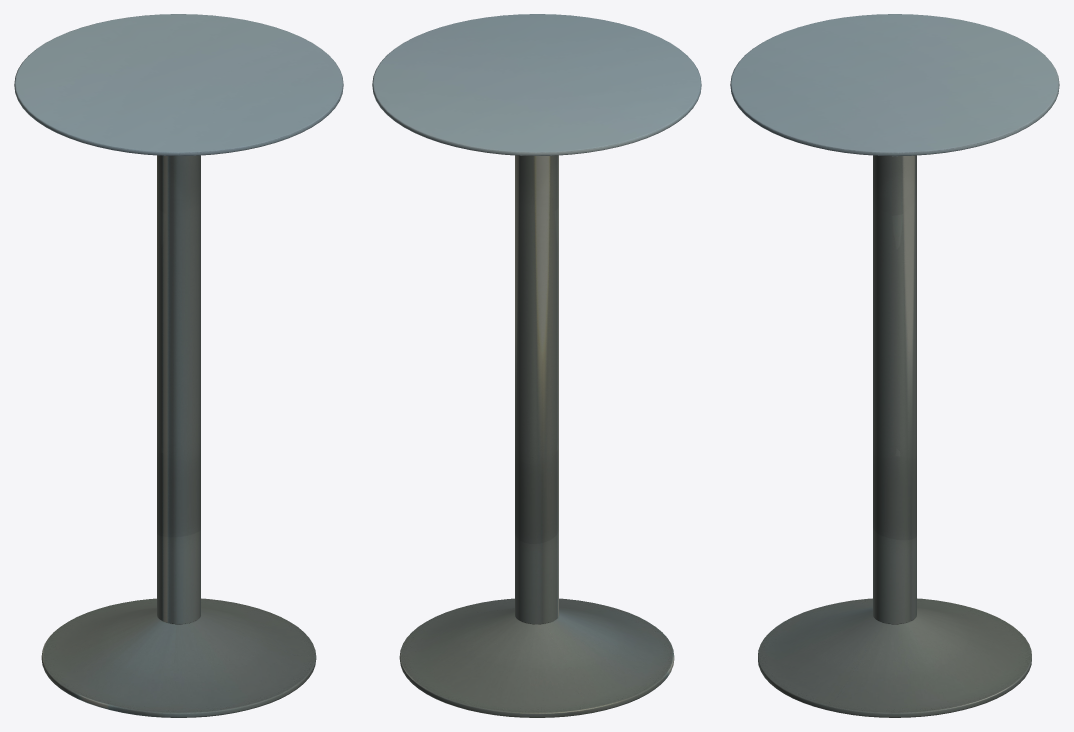
The model's file is fermo_110_edelstahlfarben_60_black_laquered_metal.glb.
3 renders of one model, left to right at view 1: azimuth 30°, elevation 25°; view 2: azimuth 150°, elevation 25°; view 3: azimuth 270°, elevation 25°, orthographic.
Parts seen in each view (by area): view 1: fermo_110_edelstahlfarben_o60-frosted_glass, Object01; view 2: fermo_110_edelstahlfarben_o60-frosted_glass, Object01; view 3: fermo_110_edelstahlfarben_o60-frosted_glass, Object01.
Part boxes in pixels (box(x1,y1,x2,y2)): fermo_110_edelstahlfarben_o60-frosted_glass: box(41, 155, 316, 717); Object01: box(14, 14, 343, 155); fermo_110_edelstahlfarben_o60-frosted_glass: box(399, 155, 674, 717); Object01: box(372, 14, 701, 155); fermo_110_edelstahlfarben_o60-frosted_glass: box(758, 155, 1031, 717); Object01: box(730, 14, 1059, 156).
Size of the model in its own units: 0.6 by 1.16 by 0.6.
Materials: 2 (2 with a texture image).
